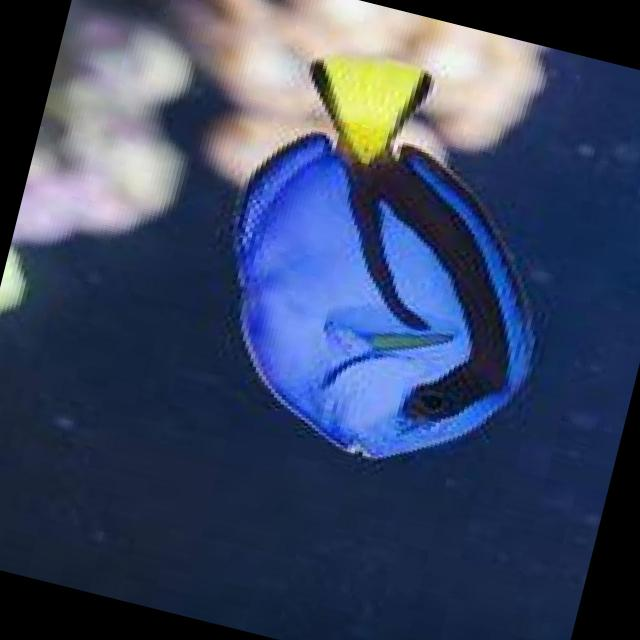BlueTang: (194, 37, 596, 492)
